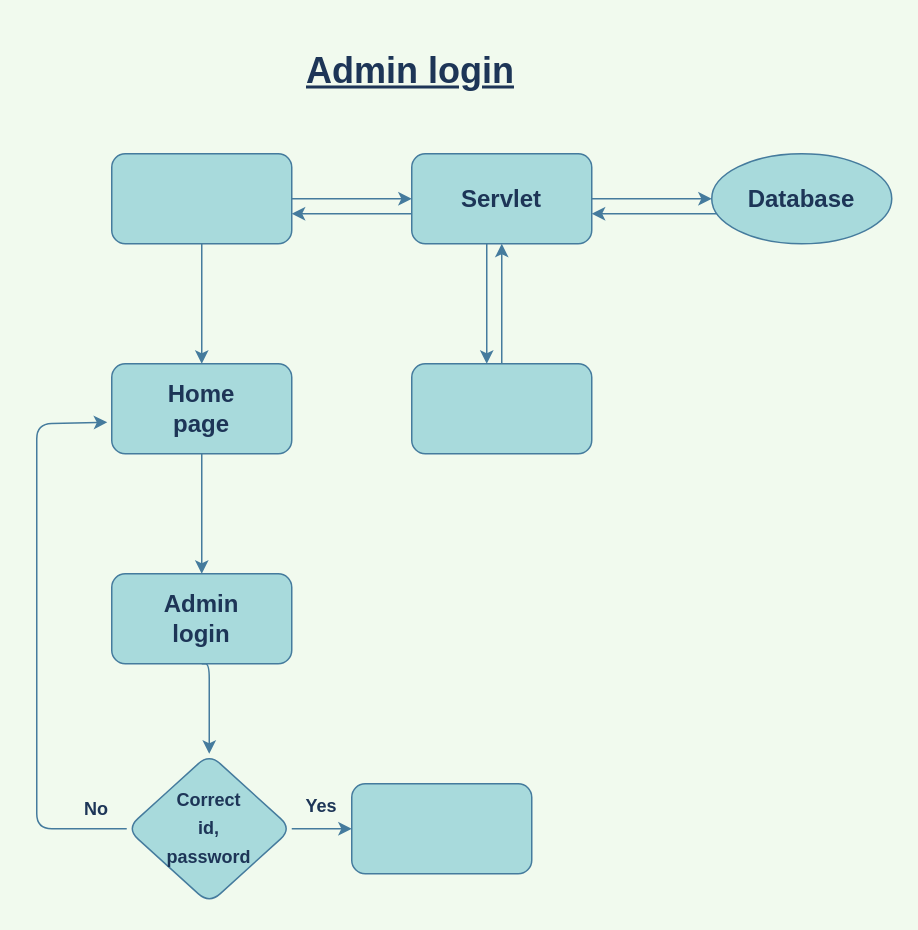
This 918x930 diagram has some shape labels left out. The box of each missing label's shape, as (x1, y1, x2, y2) in pixels:
Admin Home: (350, 782, 532, 874)
HTML pages: (410, 362, 592, 454)
Web Browser: (110, 152, 292, 244)
